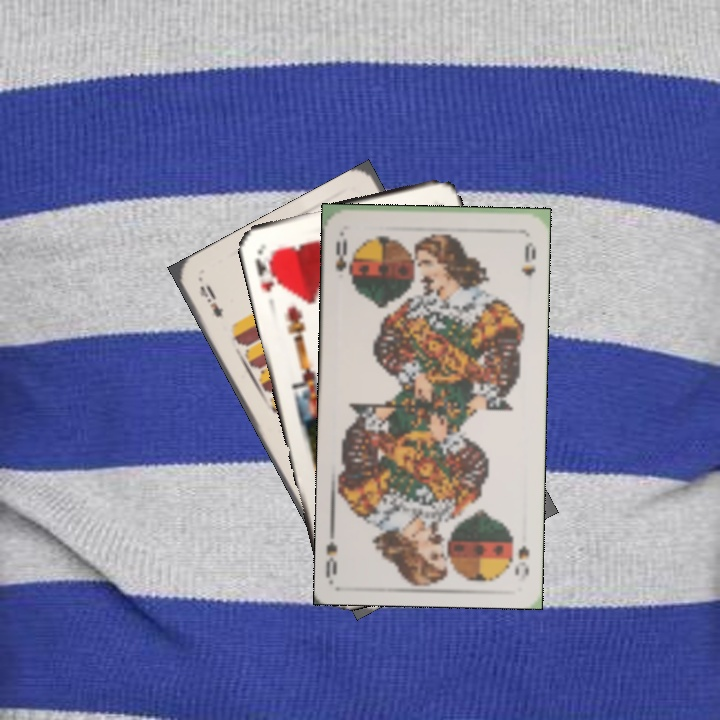E9: (195, 281, 226, 320)
HK: (251, 244, 282, 295)
SO: (510, 542, 532, 578), (331, 234, 349, 274)
